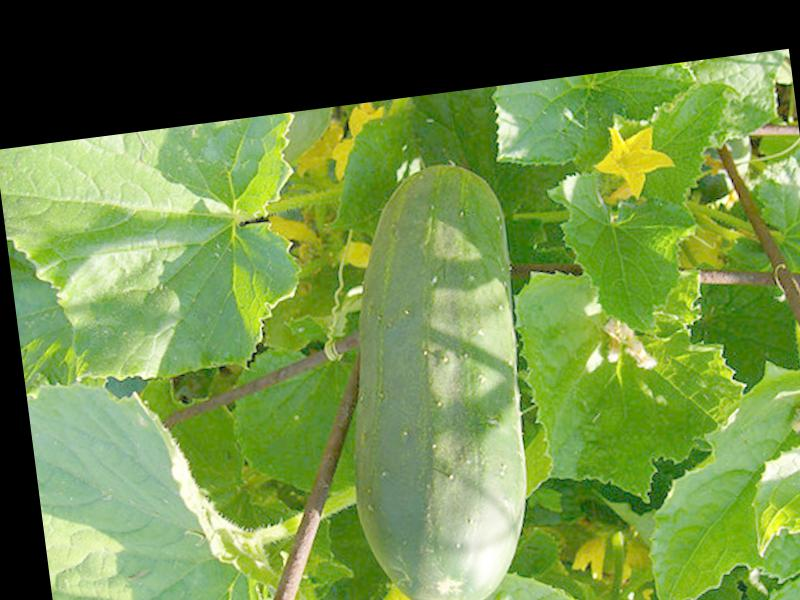Cucumber: (311, 156, 553, 600)
